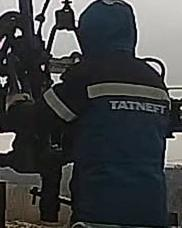gloves: (3, 88, 35, 109)
vest: (72, 62, 165, 220)
